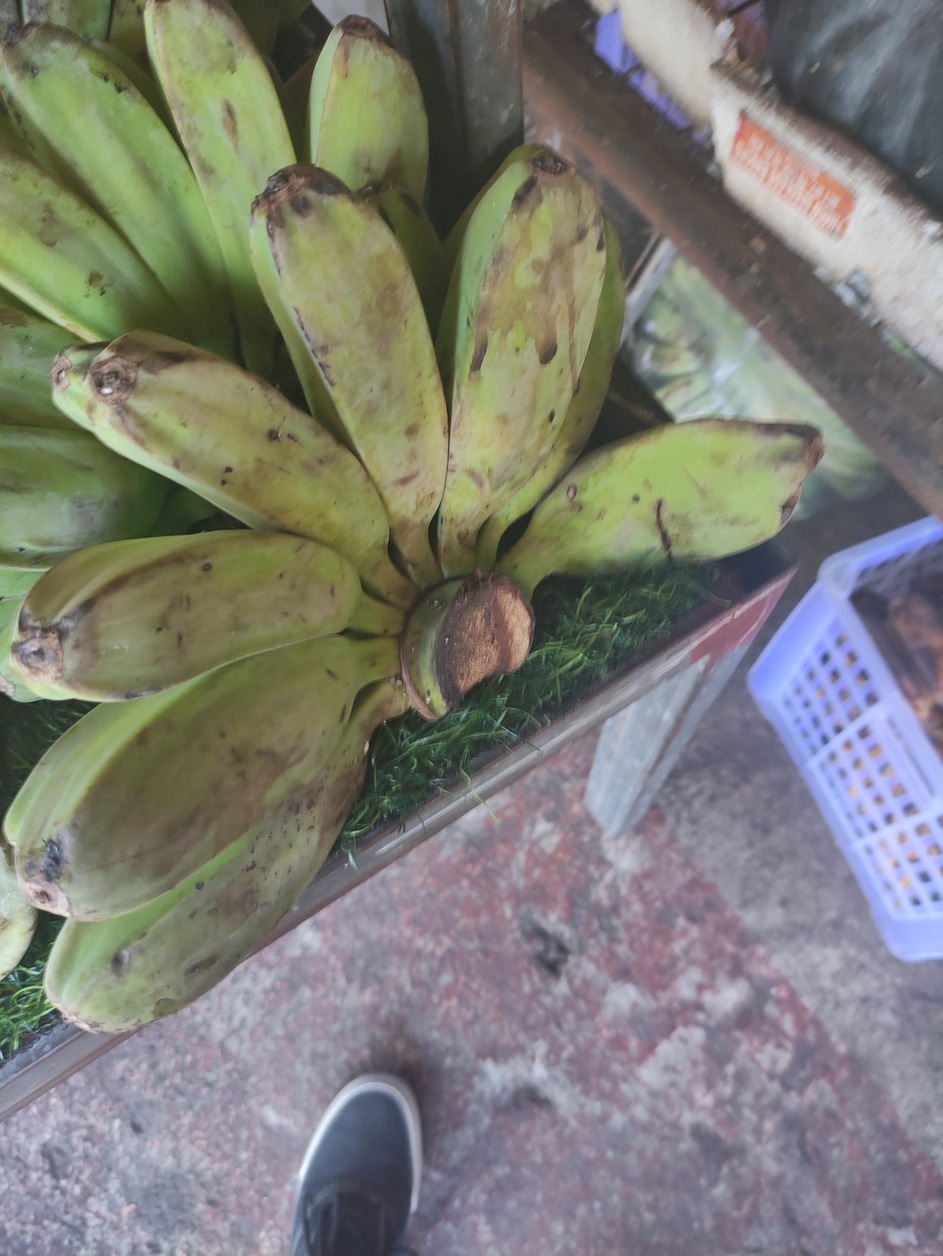underripe: (0, 144, 824, 1035), (0, 0, 428, 704)
